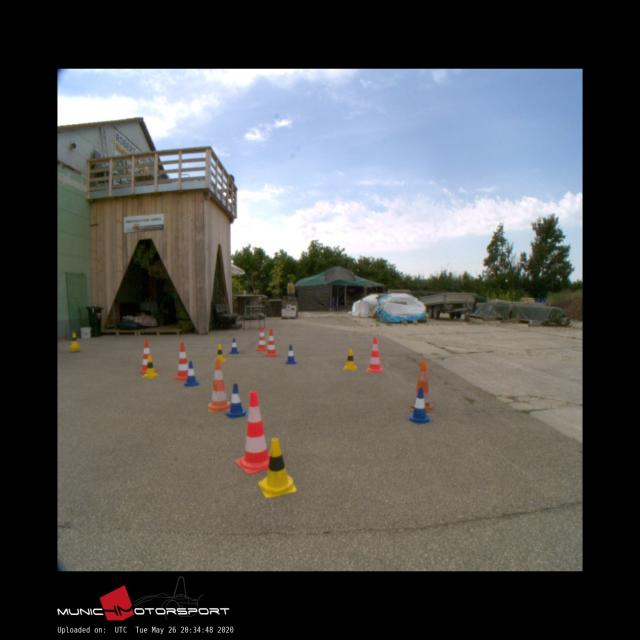blue_cone: (225, 383, 247, 418), (407, 389, 430, 422), (184, 361, 198, 385), (285, 345, 296, 363), (230, 338, 238, 352)
large_orange_cone: (236, 391, 273, 472), (208, 359, 232, 412), (410, 360, 433, 410), (175, 342, 193, 379), (139, 340, 156, 373), (366, 338, 383, 371), (265, 329, 277, 356), (256, 326, 266, 350)
yellow_cone: (259, 438, 296, 497), (142, 355, 158, 376), (343, 348, 356, 371), (214, 344, 224, 361), (69, 332, 79, 346)
